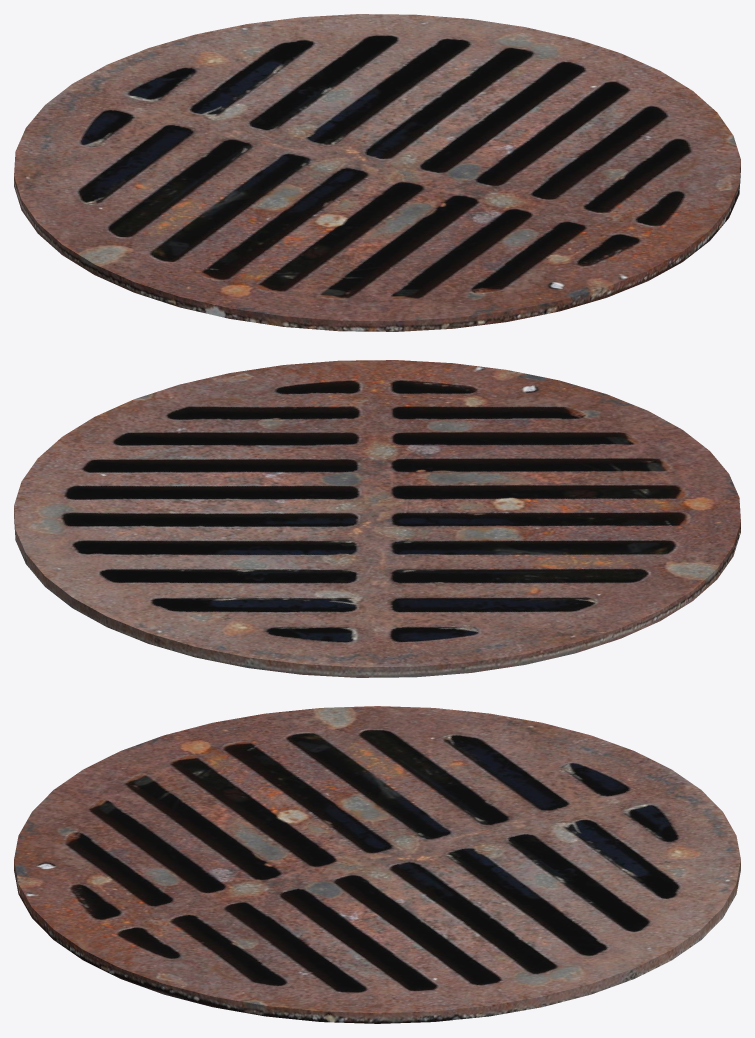
Rendered from manhole_cover0.glb.
3 views of the same model, one above another, from view 1: azimuth 30°, elevation 25°; view 2: azimuth 150°, elevation 25°; view 3: azimuth 270°, elevation 25° (orthographic).
Visible parts, largest first — view 1: manhole_cover0; view 2: manhole_cover0; view 3: manhole_cover0.
Boxes of the visible parts, <box> form: manhole_cover0: <box>14,14,740,331</box>; manhole_cover0: <box>14,360,740,677</box>; manhole_cover0: <box>14,706,740,1023</box>.
Size of the model in its own units: 0.833 by 0.0135 by 0.833.
1 material, 1 textured.
